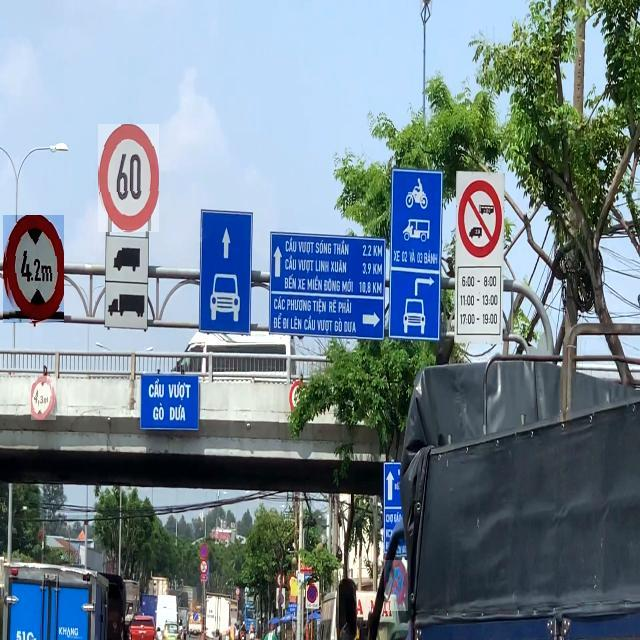P-117: (3, 216, 64, 324), (31, 376, 56, 420)
P-127: (98, 125, 159, 233)
P-130: (385, 560, 409, 611), (307, 584, 318, 603), (201, 543, 209, 559)
R-302b: (193, 612, 198, 620)
